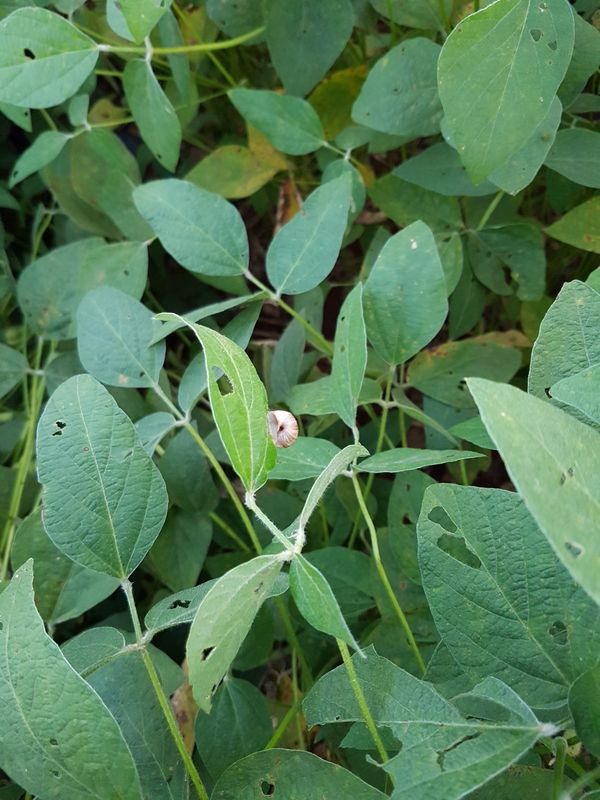Gastropoda: (253, 398, 311, 461)
